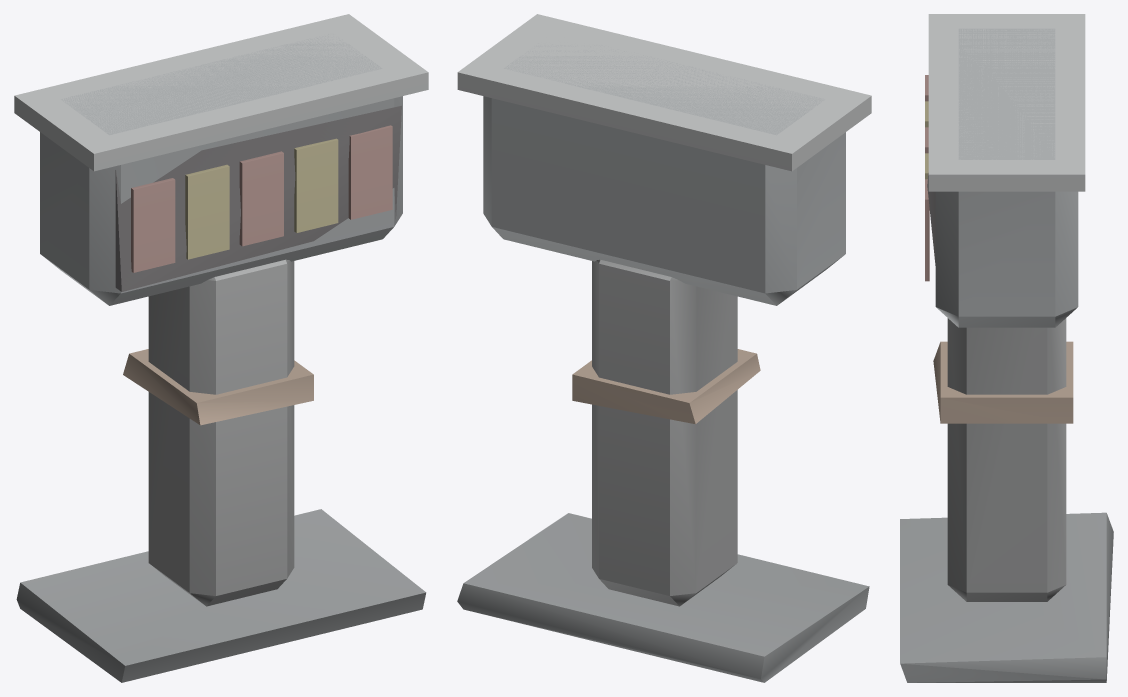
File: vdgs.lod1.glb
3 renders of one model, left to right at view 1: azimuth 30°, elevation 25°; view 2: azimuth 150°, elevation 25°; view 3: azimuth 270°, elevation 25°, orthographic.
Bounding box in the file's own units: 1.6 × 2.4 × 0.9.
